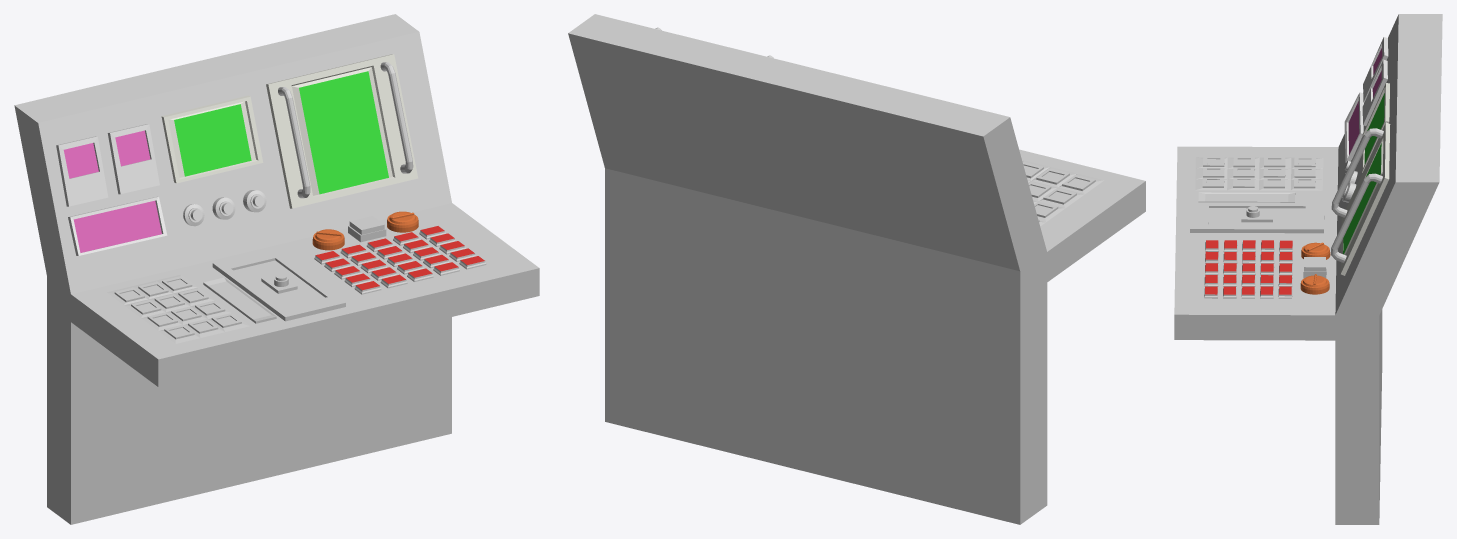
File: Control Panel.fbx
The picture shows the model from 3 angles, left to right: view 1: azimuth 30°, elevation 25°; view 2: azimuth 150°, elevation 25°; view 3: azimuth 270°, elevation 25°; orthographic projection. The views are drawn at different scales.
Parts seen in each view (by area): view 1: Cube.031, Cube.036, Cube.037, Cube.032, Cube.033, Cube.034, Cube.040, Cube.039, Cube.038, Cube.035, Plane.022, Plane.021 (+1 smaller); view 2: Cube.031, Cube.032; view 3: Cube.031, Cube.032, Cube.033, Cube.034, Cube.036, Cube.035, Cube.037, Cube.040, Plane.022, Plane.021, Cube.038, Cube.039 (+3 smaller).
Part boxes in pixels (box(x1,y1,x2,y2)): Cube.031: box(14, 14, 539, 524); Cube.036: box(266, 54, 417, 208); Cube.037: box(161, 95, 263, 183); Cube.032: box(102, 271, 253, 346); Cube.033: box(314, 226, 486, 294); Cube.034: box(212, 248, 345, 321); Cube.040: box(68, 196, 167, 255); Cube.039: box(56, 136, 108, 206); Cube.038: box(107, 124, 159, 194); Cube.035: box(203, 277, 276, 323); Plane.022: box(380, 62, 413, 173); Plane.021: box(278, 87, 310, 198); Cube.031: box(568, 14, 1145, 524); Cube.032: box(1022, 157, 1108, 226); Cube.031: box(1174, 14, 1442, 524); Cube.032: box(1188, 157, 1332, 190); Cube.033: box(1204, 240, 1292, 298); Cube.034: box(1190, 202, 1324, 233); Cube.036: box(1340, 122, 1390, 275); Cube.035: box(1198, 192, 1295, 202); Cube.037: box(1362, 83, 1389, 172); Cube.040: box(1344, 92, 1363, 162); Plane.022: box(1330, 173, 1382, 262); Plane.021: box(1331, 128, 1383, 217); Cube.038: box(1362, 59, 1387, 125); Cube.039: box(1363, 37, 1388, 102).
Size of the model in its own units: 131 by 124 by 87.83.
